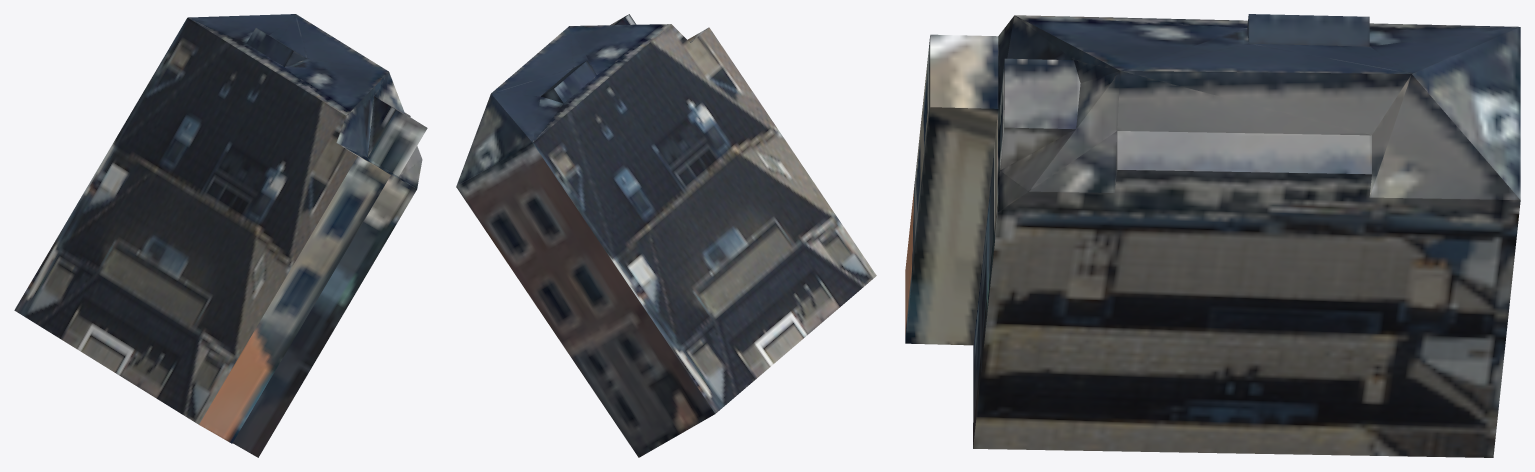
The picture shows the model from 3 angles, left to right: view 1: azimuth 30°, elevation 25°; view 2: azimuth 150°, elevation 25°; view 3: azimuth 270°, elevation 25°; orthographic projection. The views are drawn at different scales.
Parts seen in each view (by area): view 1: BAG_0599100000688751 (×6); view 2: BAG_0599100000688751 (×6); view 3: BAG_0599100000688751 (×5).
Part boxes in pixels (bbox=[...]): BAG_0599100000688751 (×6): bbox=[14, 14, 427, 457]; BAG_0599100000688751 (×6): bbox=[456, 14, 876, 457]; BAG_0599100000688751 (×5): bbox=[905, 14, 1520, 457].
Size of the model in its own units: 12.35 by 13.61 by 13.87.
1 material, 1 textured.
